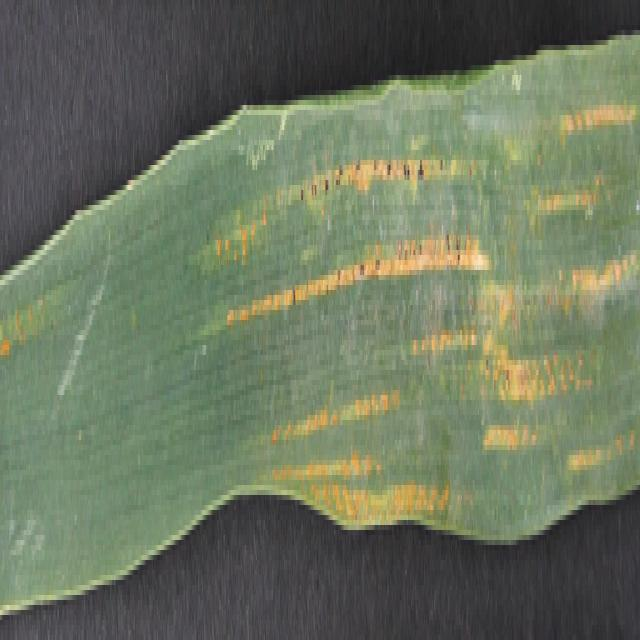leaf rust: (213, 50, 639, 485), (1, 290, 36, 410)
